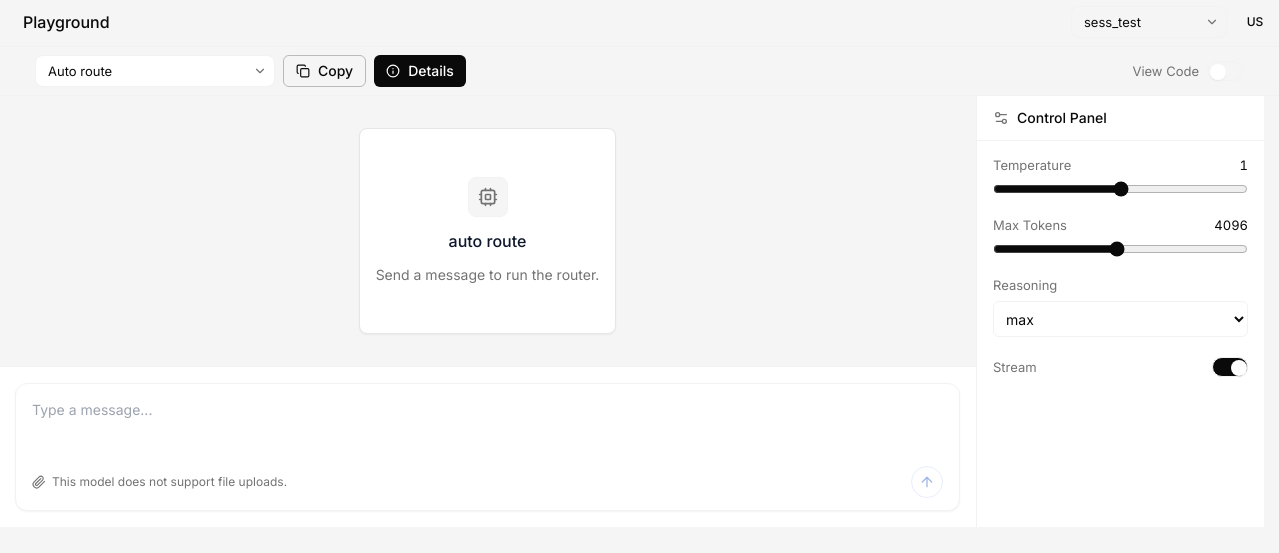
Test case: Playground page › shows served model when routing_metadata arrives before deltas
Type "hello" into the text box named "Message composer". click: x=488, y=444
box: [16,384,959,504]
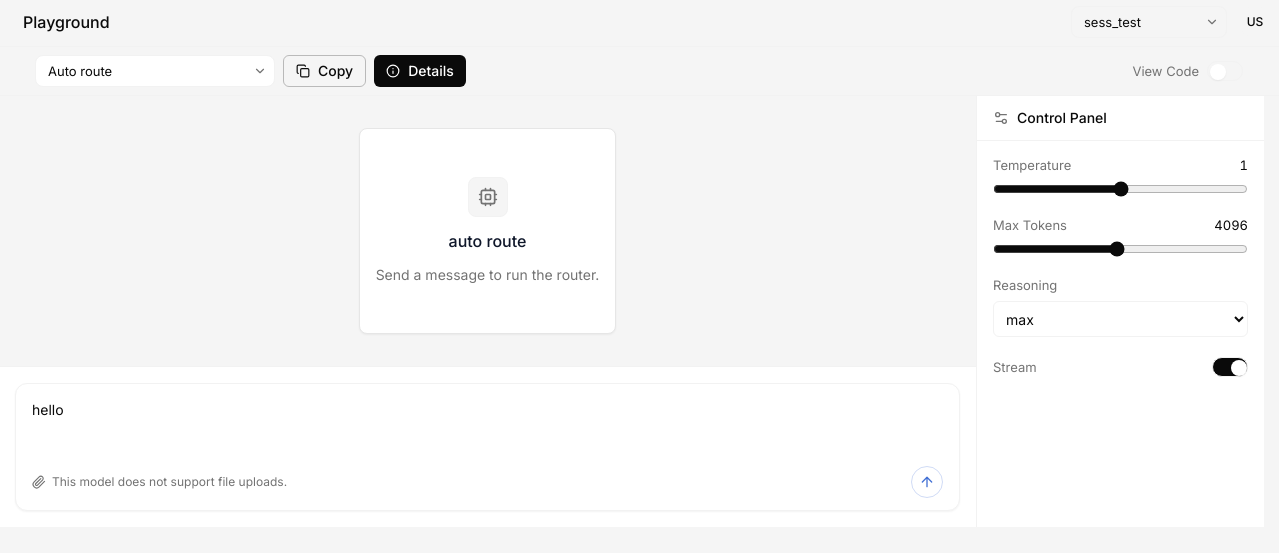
Click the button named "Send". click: x=927, y=482
box: [911,466,943,498]
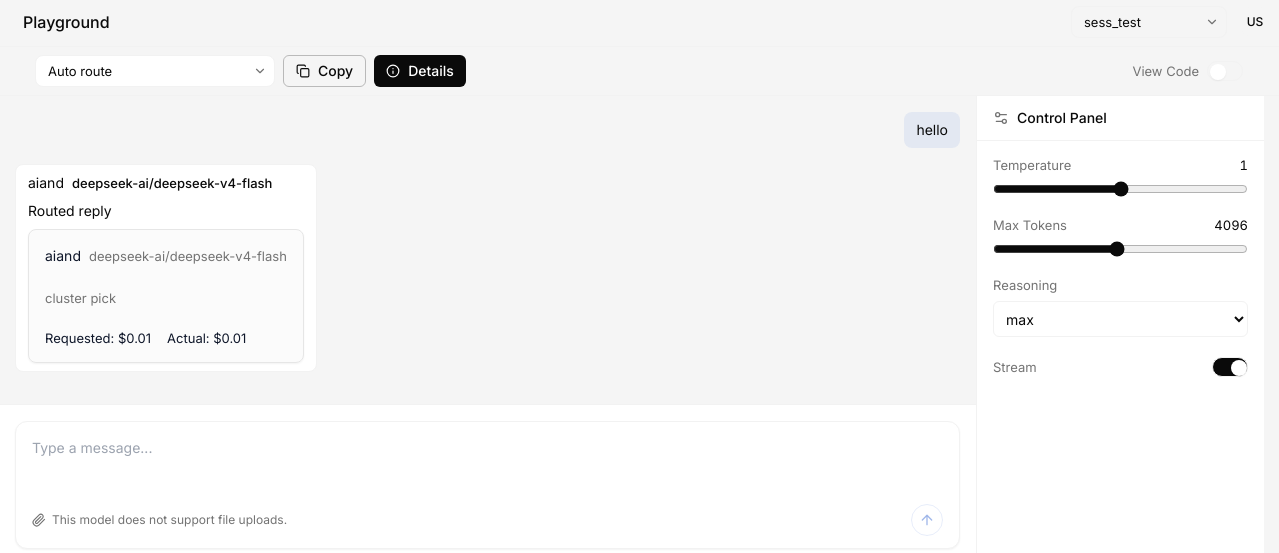
Expected: the text "Routed reply" is shown, [28,202,112,219]
